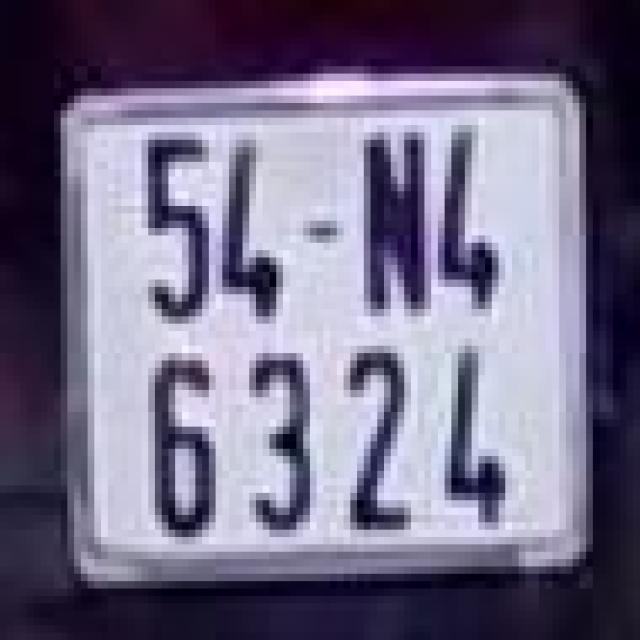2: (327, 338, 414, 537)
3: (239, 338, 320, 537)
4: (434, 338, 516, 537), (212, 129, 293, 327), (434, 114, 508, 313)
5: (128, 121, 216, 328)
6: (138, 342, 219, 541)
N: (347, 114, 434, 320)
